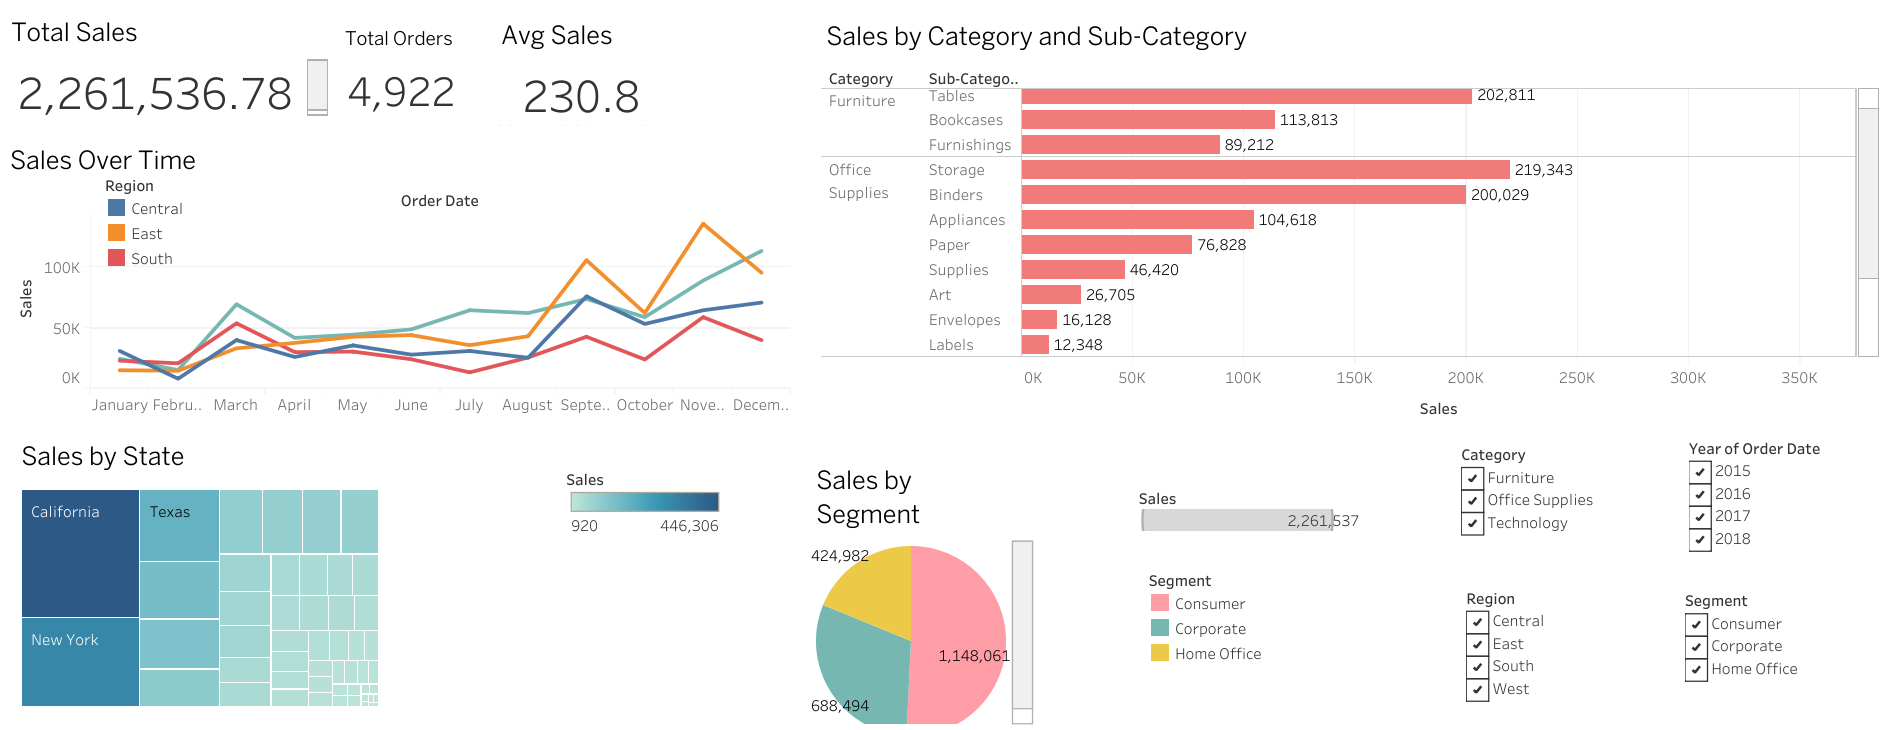

Layout of this report page (visuals, bound fields, positions):
{"tool":"tableau","page":{"name":"Dashboard 1","canvas":[1000,1000],"units":"permille","ordinal":0},"visuals":[{"type":"worksheet","title":"Sheet 6","mark":"Automatic","box":[3,10,182.9,147.3]},{"type":"worksheet","title":"Sheet 8","mark":"Automatic","box":[263.7,13.7,141.2,156.1]},{"type":"worksheet","title":"Sheet 3","mark":"Bar","rows":["Category","Sub-Category"],"cols":["Sales"],"box":[436.3,16.2,563.1,570.5]},{"type":"worksheet","title":"Sheet 7","mark":"Automatic","box":[181.1,25,120.1,222.2]},{"type":"worksheet","title":"Sheet 2","mark":"Line","rows":["Sales"],"cols":["Order Date"],"box":[2.4,184.8,417.6,382]},{"type":"legend","title":"Sheet 2","param":"[federated.1e824q91e87cnr1dghnpo17t40ec].[none:Region:nk]","box":[54.9,233.5,87.5,139.8]},{"type":"worksheet","title":"Sheet 4","mark":"Automatic","box":[8.4,589.3,388.7,385.8]},{"type":"filter","title":"Sheet 5","param":"[federated.1e824q91e87cnr1dghnpo17t40ec].[yr:Order Date:ok]","box":[897.4,594.3,96.6,178.5]},{"type":"filter","title":"Sheet 5","param":"[federated.1e824q91e87cnr1dghnpo17t40ec].[none:Category:nk]","box":[776.7,604.2,96.6,149.8]},{"type":"worksheet","title":"Sheet 5","mark":"Pie","box":[430.9,623,322.9,367]},{"type":"legend","title":"Sheet 4","param":"[federated.1e824q91e87cnr1dghnpo17t40ec].[sum:Sales:qk]","box":[301.2,633,84.5,151.1]},{"type":"legend","title":"Sheet 5","param":"[federated.1e824q91e87cnr1dghnpo17t40ec].[sum:Sales:qk]","box":[604.7,661.7,119.5,109.9]},{"type":"legend","title":"Sheet 5","param":"[federated.1e824q91e87cnr1dghnpo17t40ec].[none:Segment:nk]","box":[610.1,774,84.5,171]},{"type":"filter","title":"Sheet 5","param":"[federated.1e824q91e87cnr1dghnpo17t40ec].[none:Region:nk]","box":[779.7,800.2,96.6,178.5]},{"type":"filter","title":"Sheet 3","param":"[federated.1e824q91e87cnr1dghnpo17t40ec].[none:Segment:nk]","box":[895.6,802.8,96.6,166]}]}

Visuals, with their boxes on the dashboard's canvas, which has no fixed pixel size, in thousandths of its width and height (x1, y1, x2, y2). These are canvas units, not pixel positions in the 1880x730 screenshot, which may show the page scaled, cropped or inside an application window:
"Sheet 6" worksheet: 3, 10, 186, 157
"Sheet 8" worksheet: 264, 14, 405, 170
"Sheet 3" worksheet (Bar marks): 436, 16, 999, 587
"Sheet 7" worksheet: 181, 25, 301, 247
"Sheet 2" worksheet (Line marks): 2, 185, 420, 567
"Sheet 2" legend: 55, 234, 142, 373
"Sheet 4" worksheet: 8, 589, 397, 975
"Sheet 5" filter: 897, 594, 994, 773
"Sheet 5" filter: 777, 604, 873, 754
"Sheet 5" worksheet (Pie marks): 431, 623, 754, 990
"Sheet 4" legend: 301, 633, 386, 784
"Sheet 5" legend: 605, 662, 724, 772
"Sheet 5" legend: 610, 774, 695, 945
"Sheet 5" filter: 780, 800, 876, 979
"Sheet 3" filter: 896, 803, 992, 969
